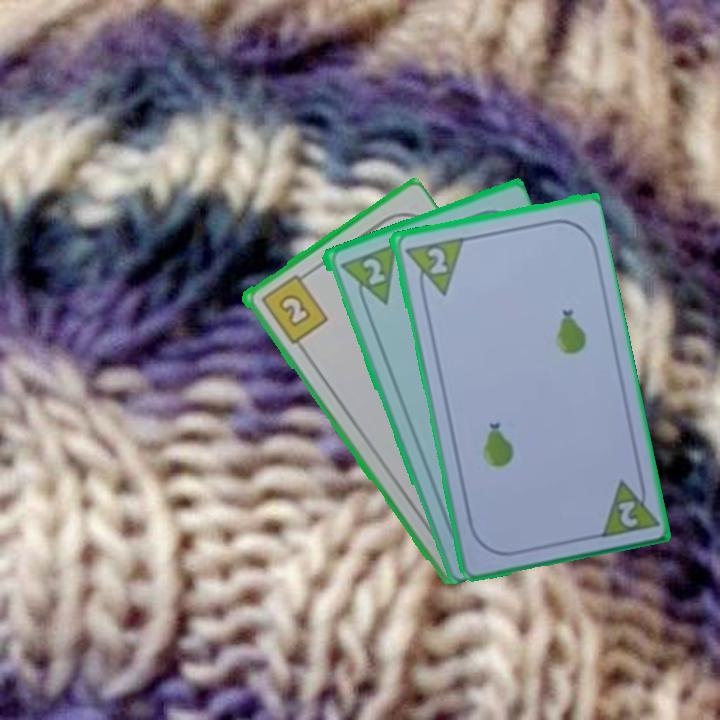2b: (257, 268, 330, 347)
2p: (594, 470, 659, 541), (336, 240, 398, 313), (423, 243, 450, 277)
